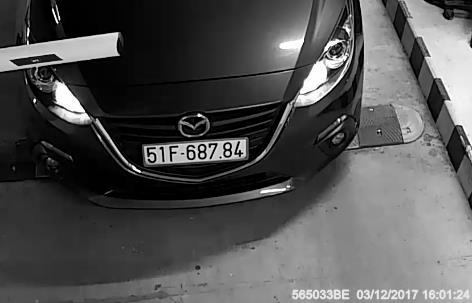License-plate: (136, 133, 254, 174)
